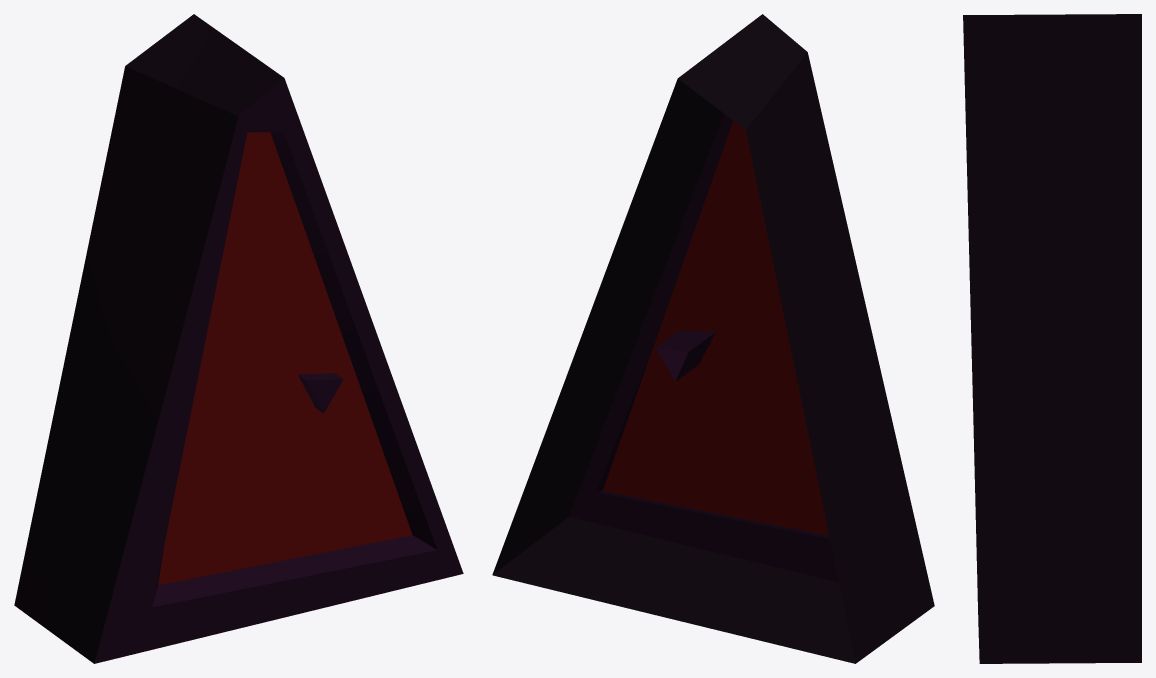
File: c_house_door_aa.fbx
3 views of the same model, side by side, from view 1: azimuth 30°, elevation 25°; view 2: azimuth 150°, elevation 25°; view 3: azimuth 270°, elevation 25° (orthographic). The views are drawn at different scales.
Parts seen in each view (by area): view 1: c_house_door_aa; view 2: c_house_door_aa; view 3: c_house_door_aa.
Boxes of the visible parts, x1,y1,x2,y2 form: c_house_door_aa: (14,14,463,663); c_house_door_aa: (492,14,934,663); c_house_door_aa: (963,14,1141,663).
Bounding box in the file's own units: 1.77 × 2.51 × 0.7326.
